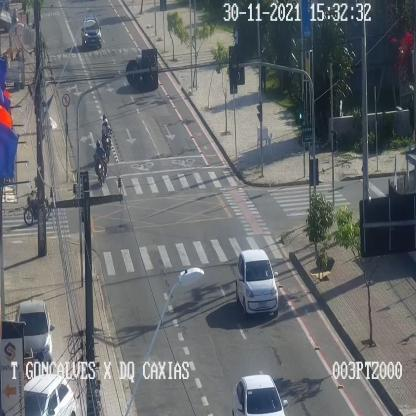car: (235, 250, 279, 316), (14, 298, 55, 364), (234, 374, 288, 415), (24, 374, 76, 416), (82, 17, 102, 47)
motorbike: (24, 190, 50, 226), (93, 140, 108, 186), (101, 113, 112, 161)
person: (232, 28, 239, 48)
